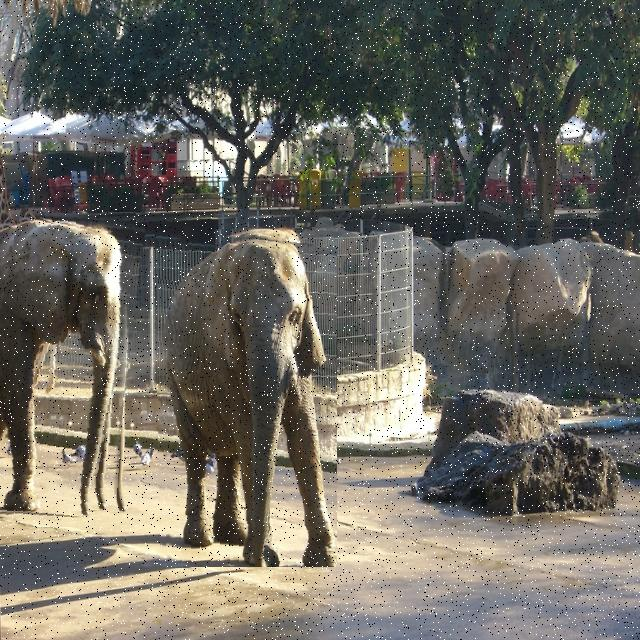elephant: (157, 228, 337, 567), (0, 212, 136, 528)
